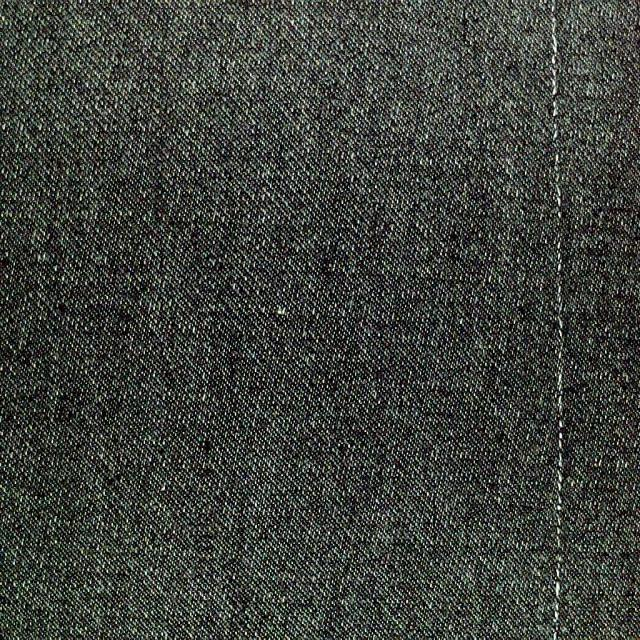Line: (549, 0, 566, 640)
